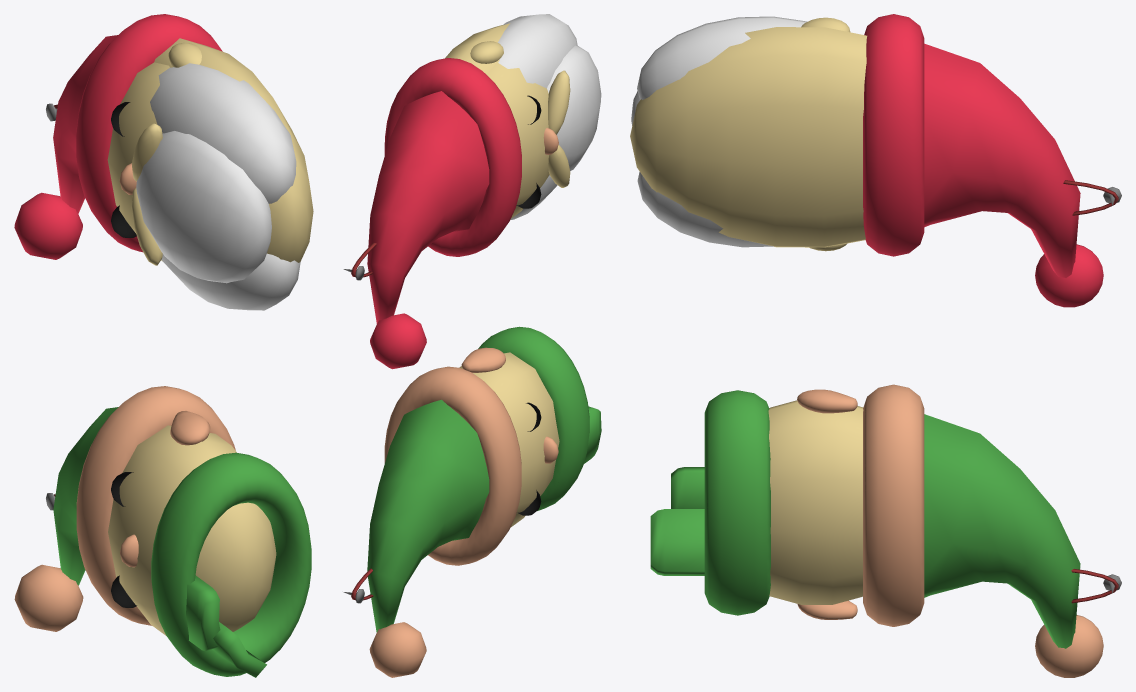
The model's file is Wall decoration.fbx.
3 views of the same model, side by side, from view 1: azimuth 30°, elevation 25°; view 2: azimuth 150°, elevation 25°; view 3: azimuth 270°, elevation 25° (orthographic). The views are drawn at different scales.
Parts seen in each view (by area): view 1: papa noel; view 2: papa noel; view 3: papa noel.
Part boxes in pixels (left/top/right/bottom): papa noel: left=14, top=14, right=313, bottom=677; papa noel: left=343, top=14, right=601, bottom=677; papa noel: left=630, top=14, right=1121, bottom=677.
Size of the model in its own units: 0.4151 by 1.67 by 1.11.
